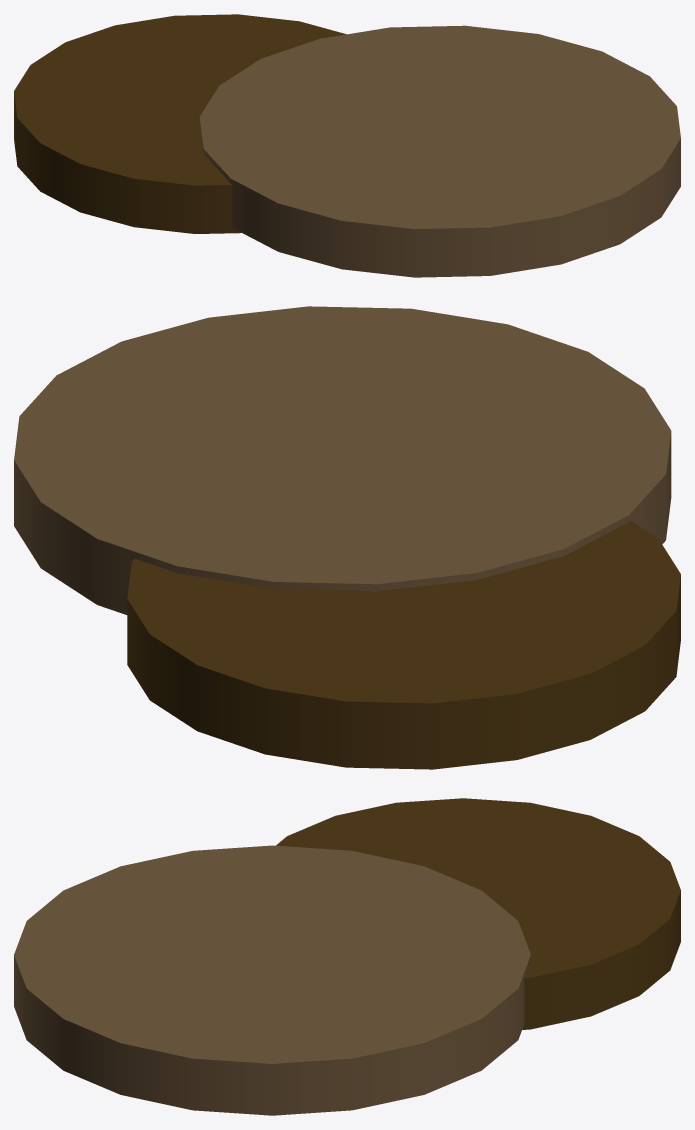
File: Mud.fbx
3 views of the same model, one above another, from view 1: azimuth 30°, elevation 25°; view 2: azimuth 150°, elevation 25°; view 3: azimuth 270°, elevation 25° (orthographic). The views are drawn at different scales.
Parts seen in each view (by area): view 1: pCylinder3; view 2: pCylinder3; view 3: pCylinder3.
Boxes of the visible parts, x1=… form: pCylinder3: x1=14, y1=14, x2=680, y2=277; pCylinder3: x1=14, y1=306, x2=680, y2=769; pCylinder3: x1=14, y1=798, x2=680, y2=1115.
Bounding box in the file's own units: 1.12 × 0.1106 × 1.17.
